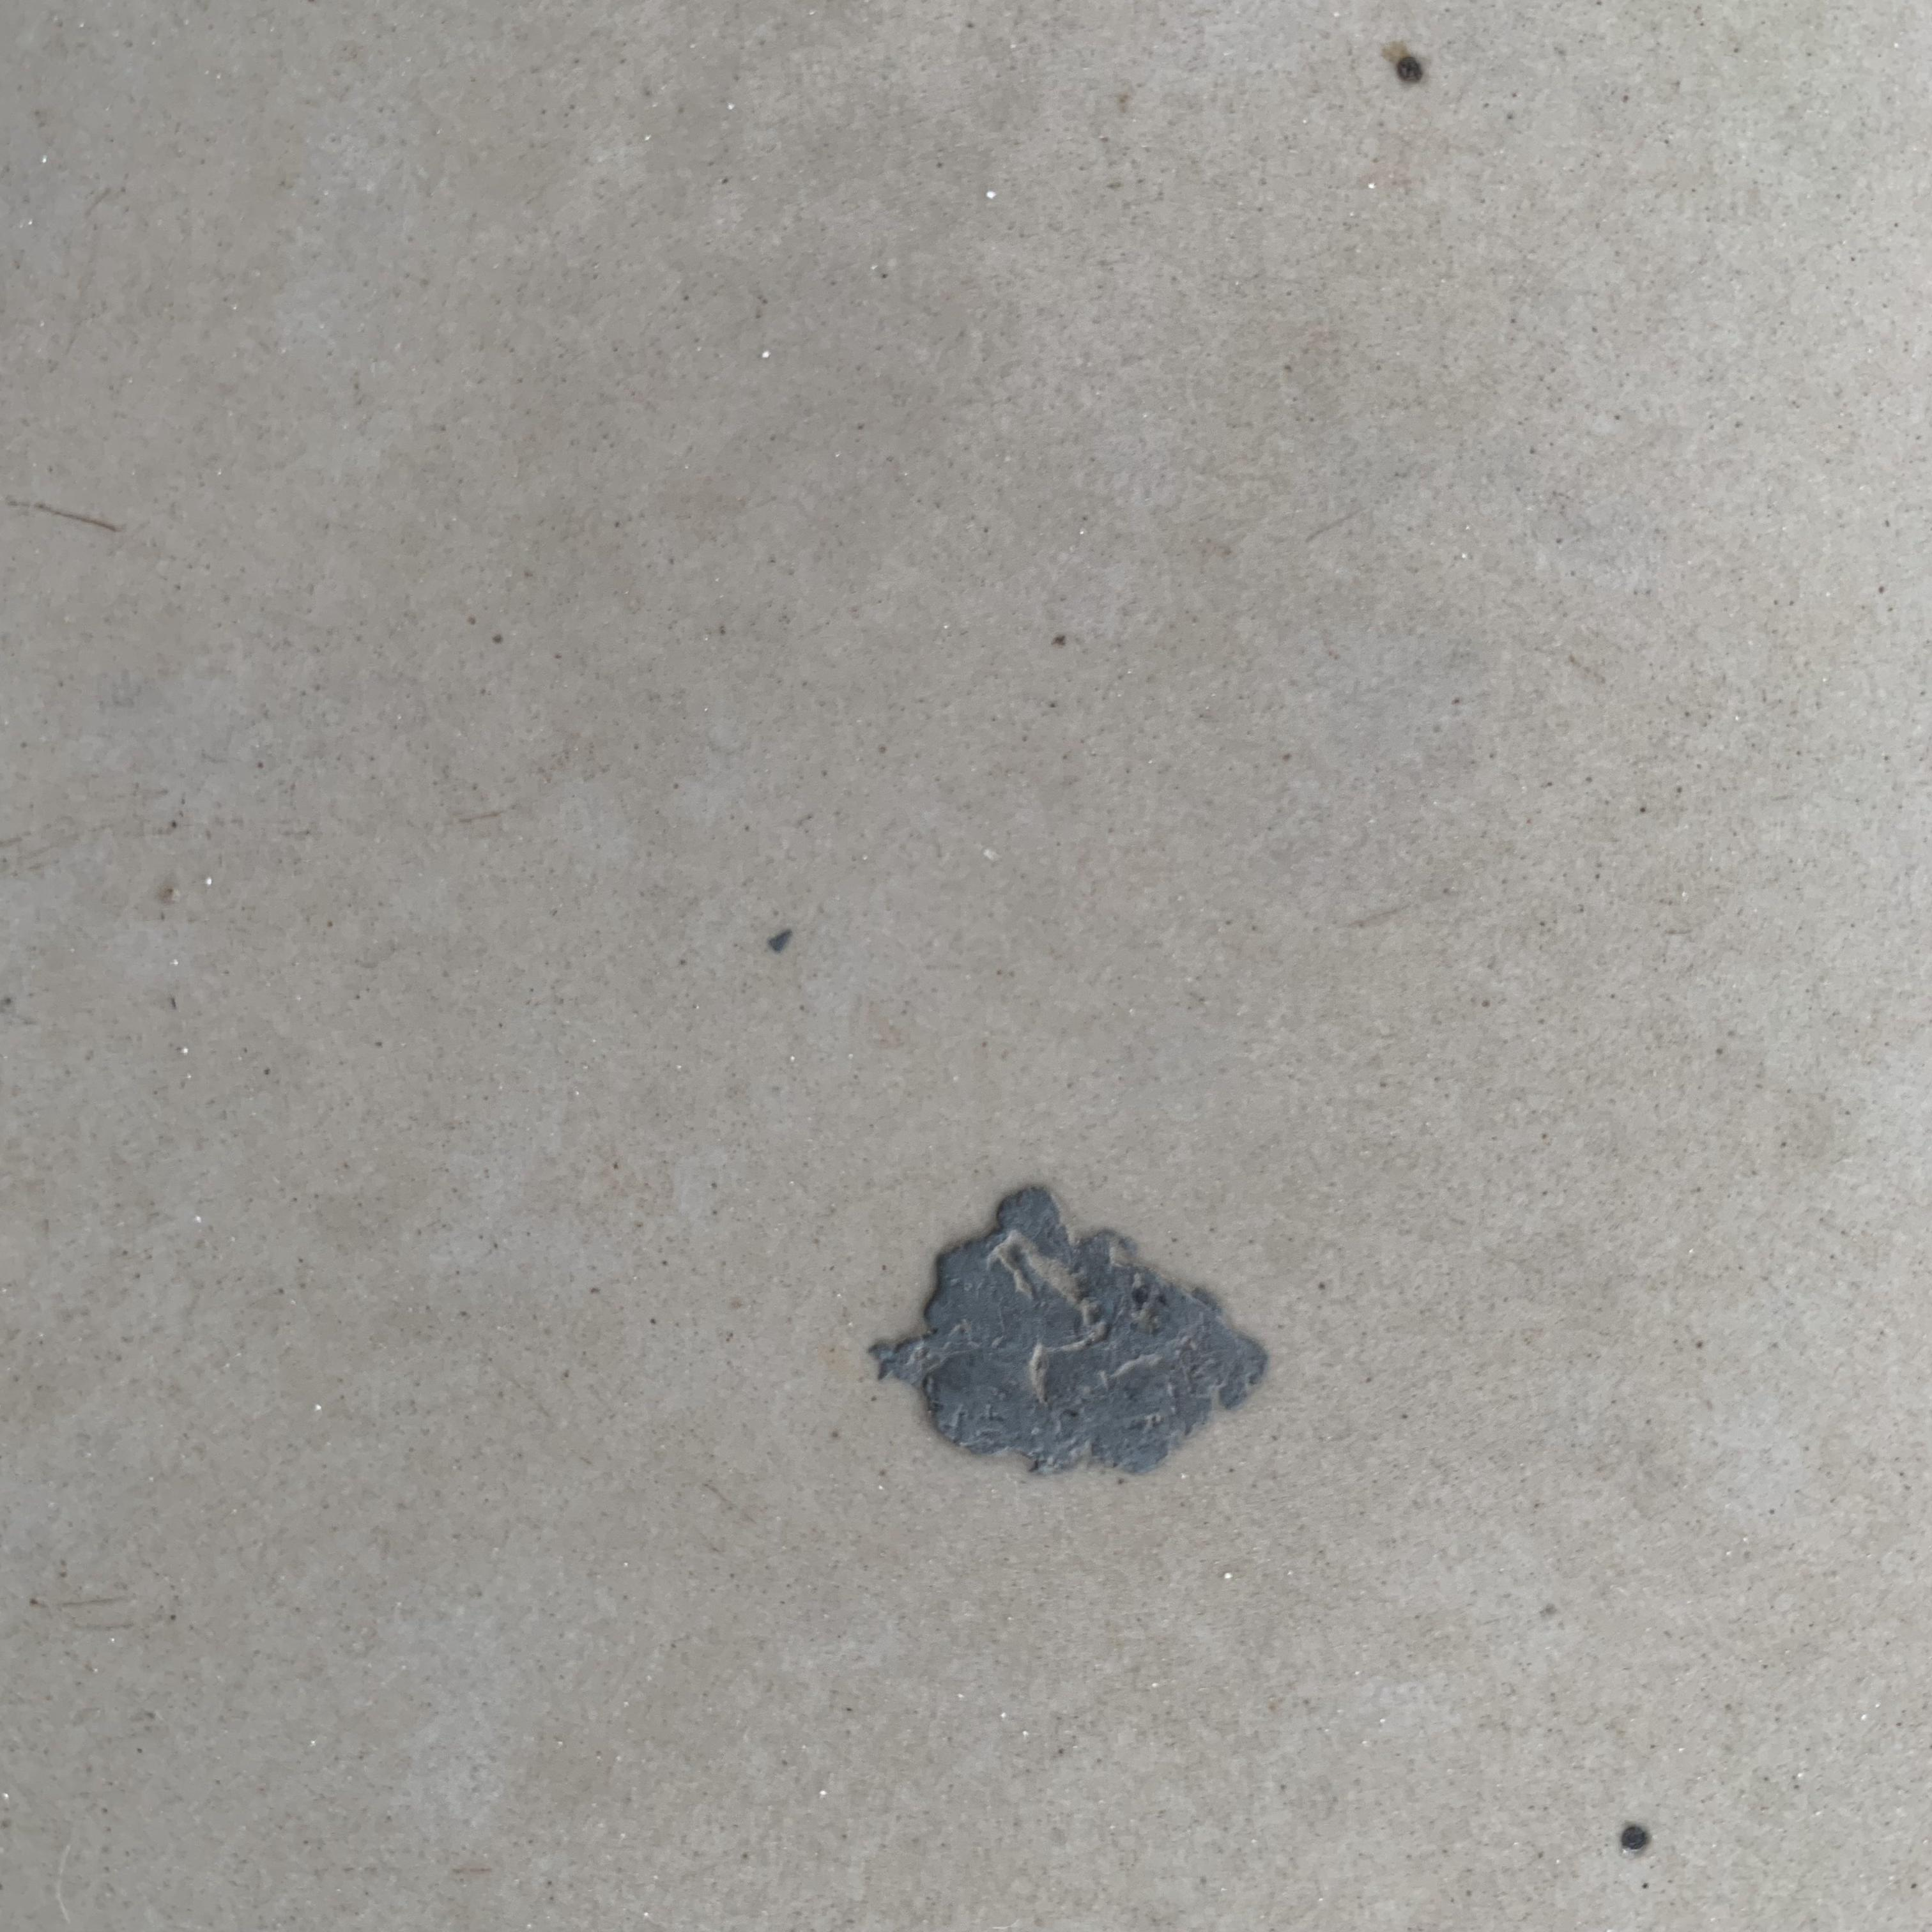grey spot: (869, 1185, 1270, 1481), (1619, 1822, 1652, 1858), (1396, 55, 1424, 83)
